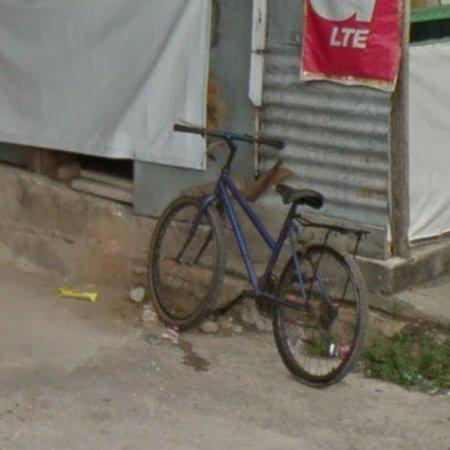bicycles: (149, 125, 368, 387)
